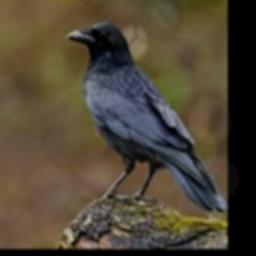Crow: (65, 20, 227, 212)
